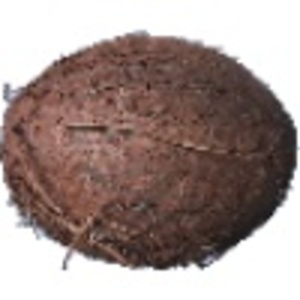coco: (1, 30, 300, 270)
